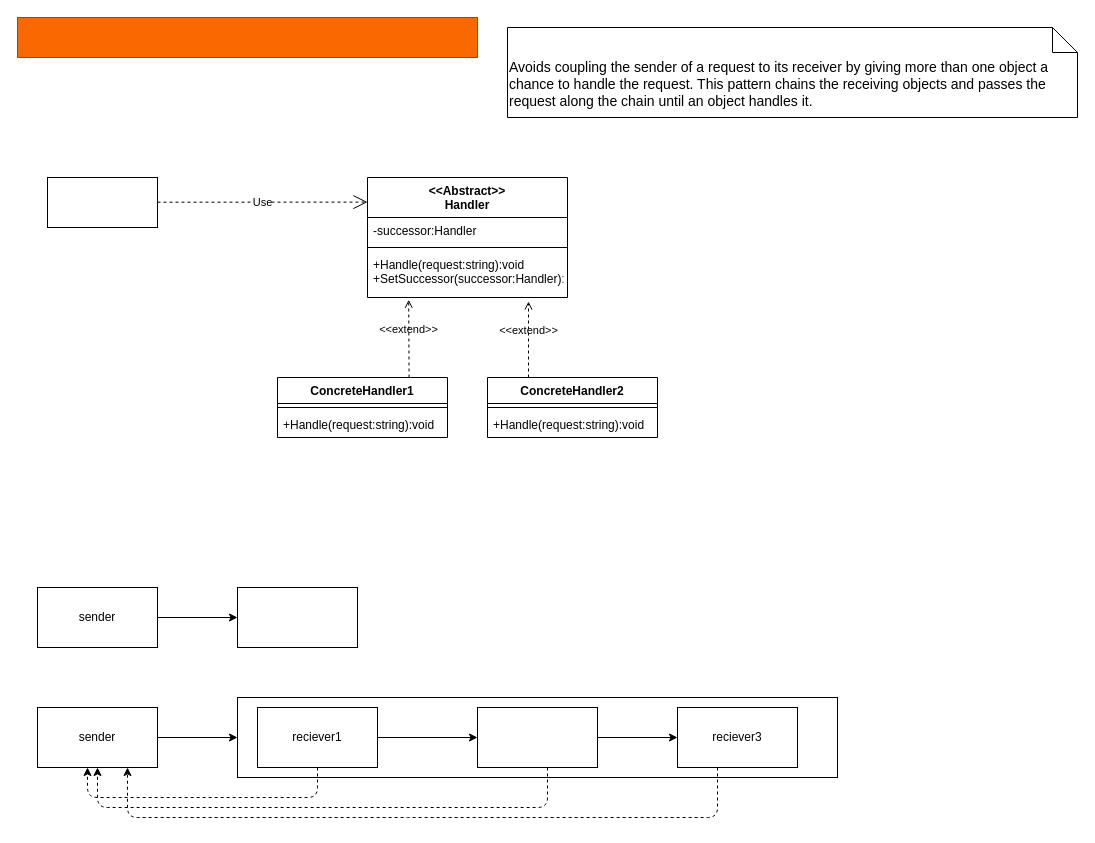
Image size: 1095x843. Some labels were removed from this diagram. The centre of each missing label's shape, as x and y in pixels:
Chain Of Responsibility Design Pattern: (247,37)
Client: (102,202)
reciever: (297,617)
reciever2: (537,737)
